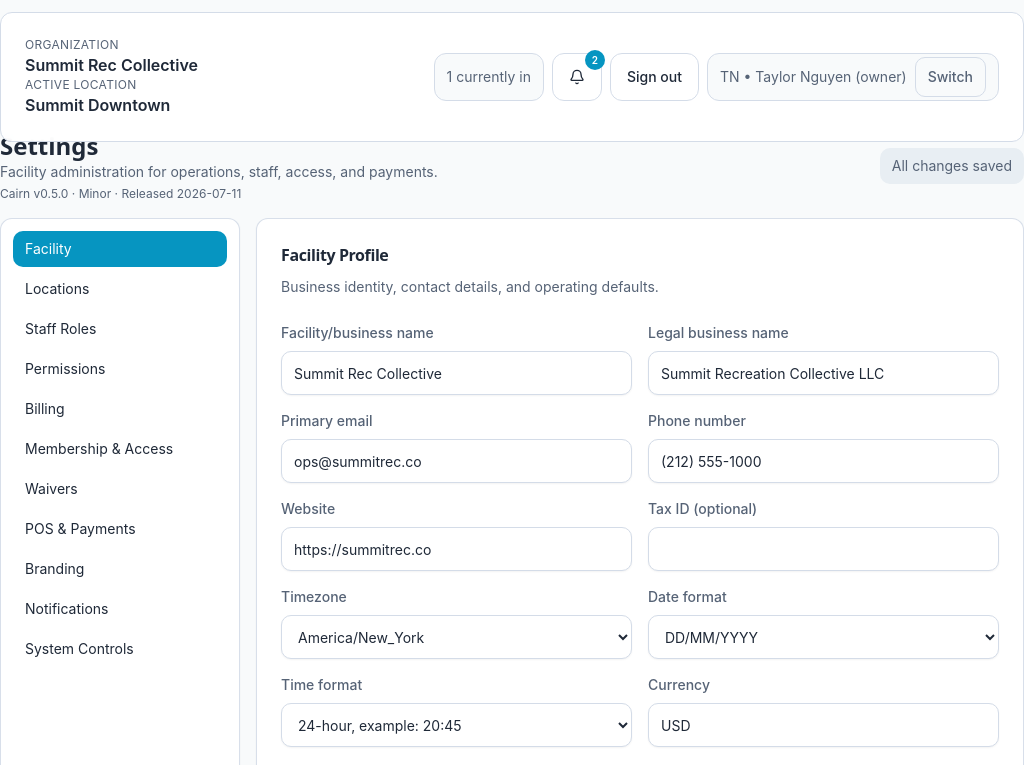
Settings system MVP › renders informational billing settings without feature restrictions
Step 1. Click the button "Switch" → [950, 77], box [915,57,986,97]
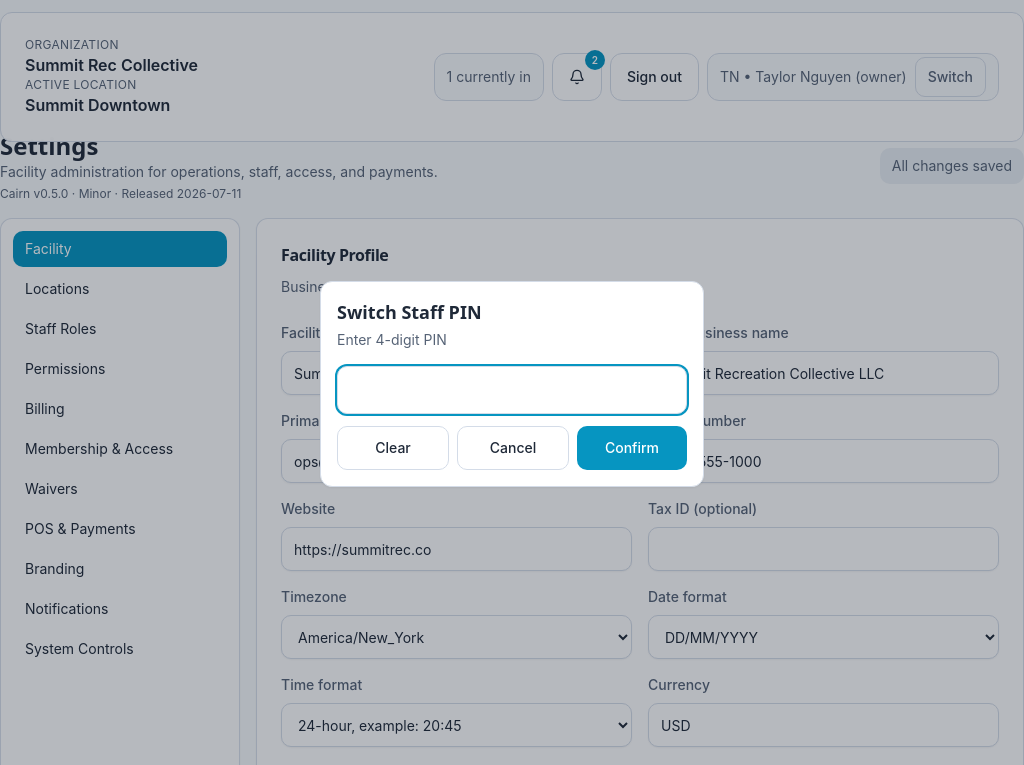
Step 2. Type "1111" into the password field named "Staff PIN input" → [512, 390], box [337,366,687,414]
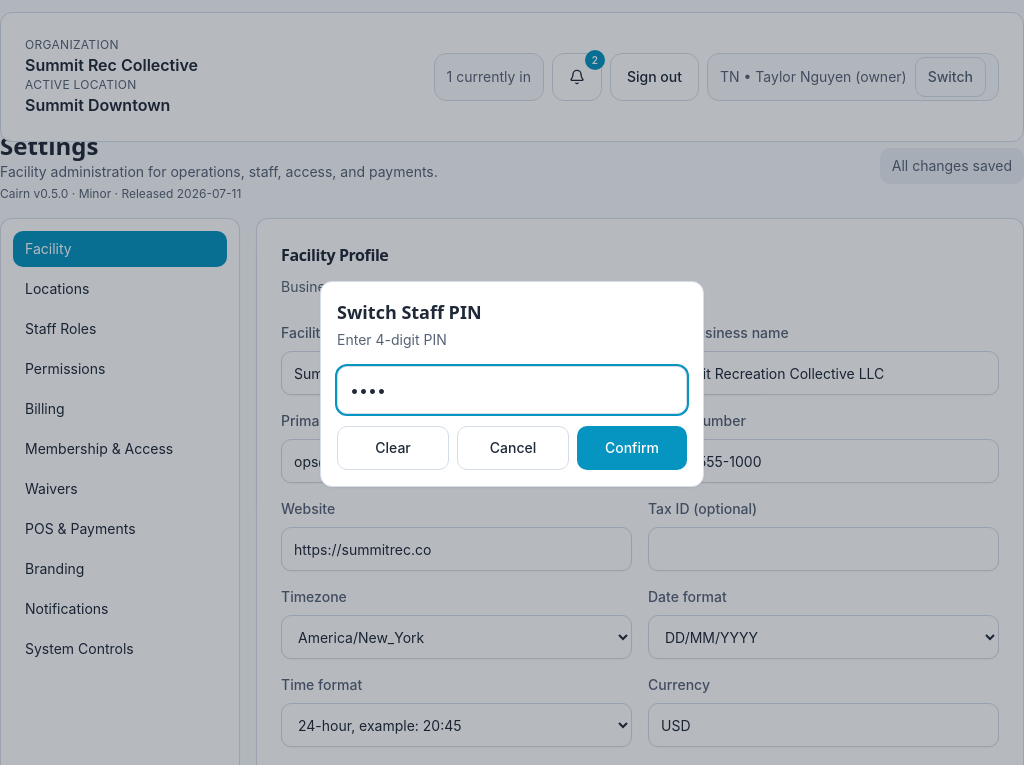
Step 3. Click the button "Confirm" → [632, 448], box [577,426,687,470]
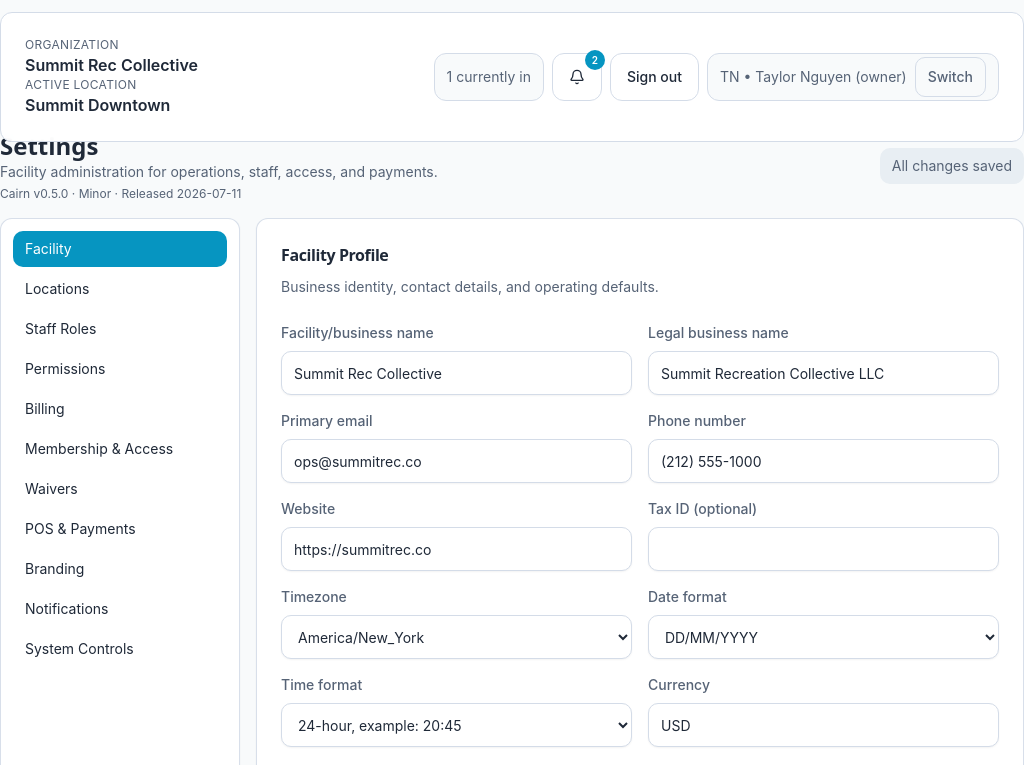
Step 4. Click the button "Billing" → [120, 409], box [13,391,227,427]
(page scrolled)
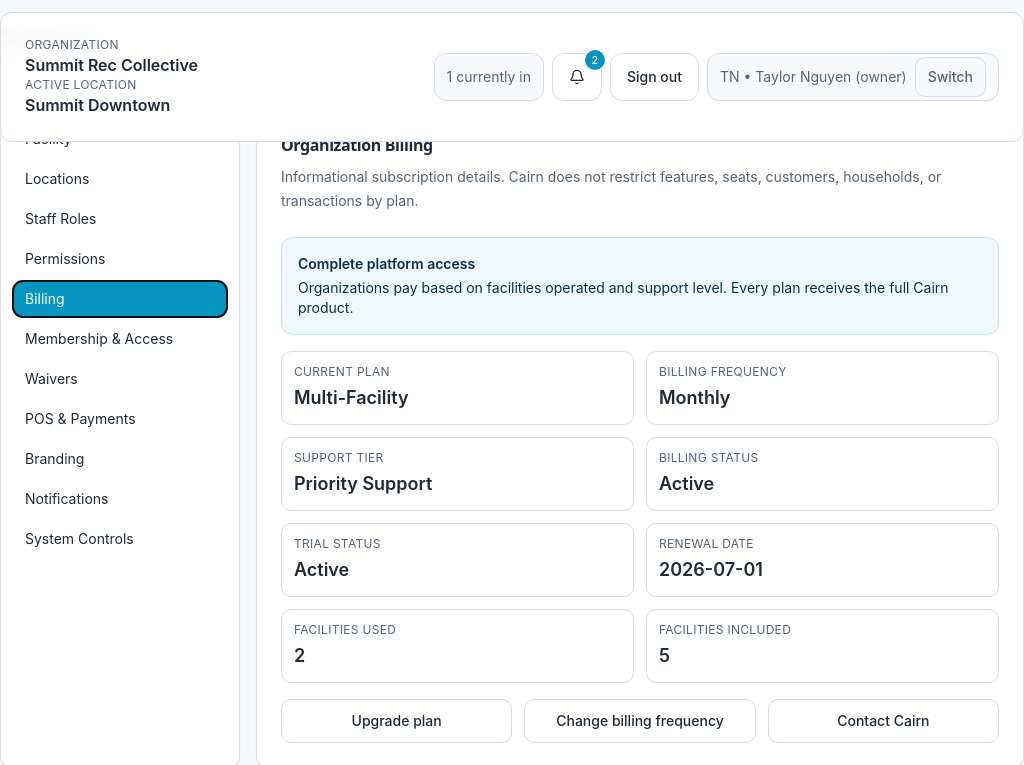
Now the heading "Organization Billing" is shown, box [281,134,433,156]
Now the text "Multi-Facility" is shown, box [294,387,409,408]
Now the text "monthly" is shown, box [659,387,730,408]
